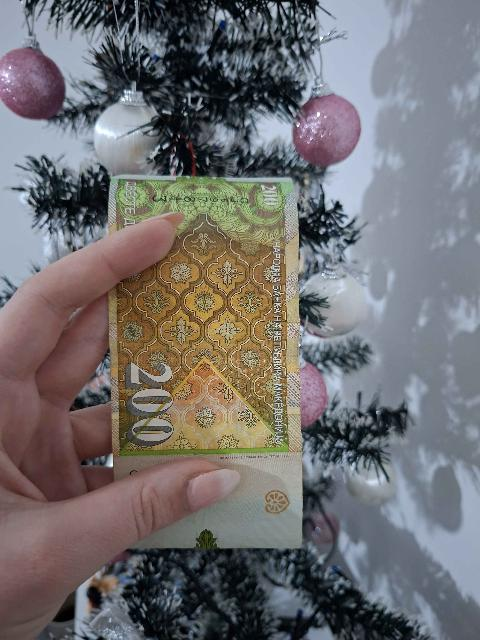note: (109, 177, 301, 547)
